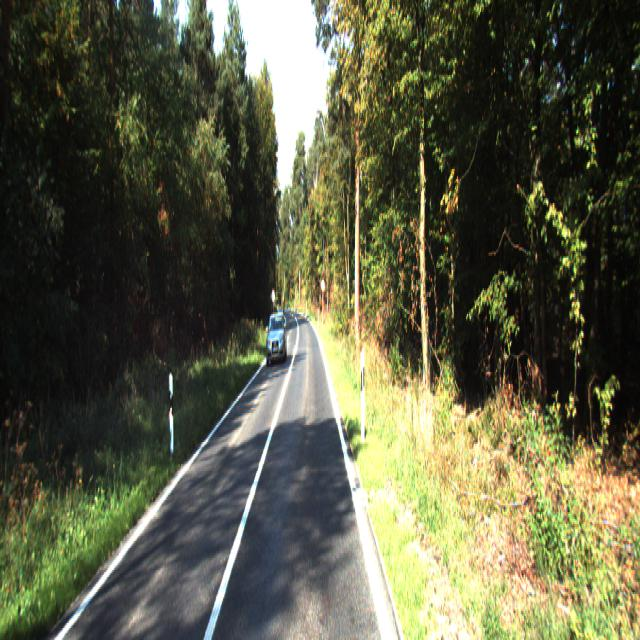Car: (265, 312, 288, 366)
